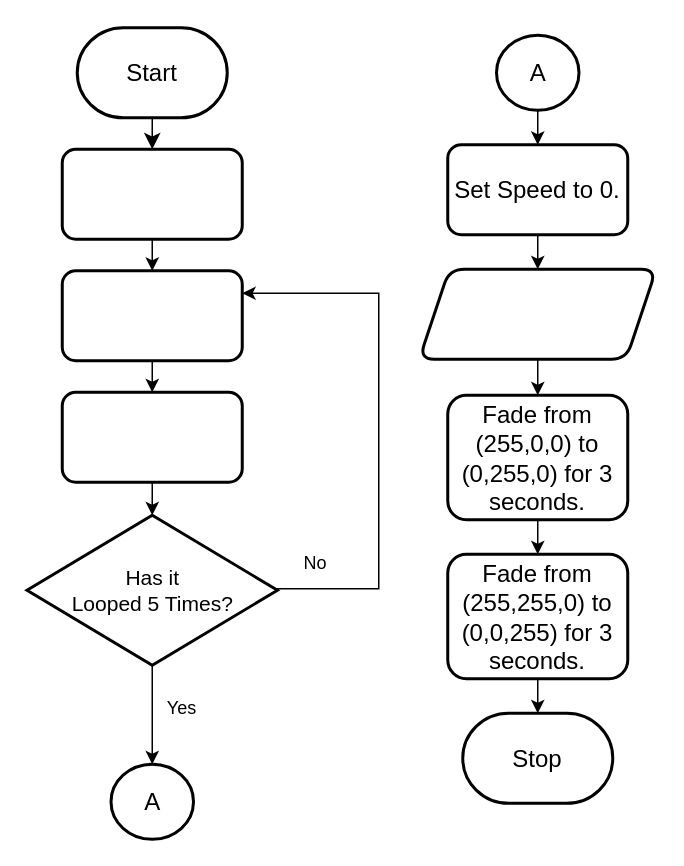
The diagram is 684 pixels wide and 866 high, and some of its shapes have lost their labels. The shapes that lost their labels are listed below. From the top down, each one's centre as x and y in pixels, then its label:
pixel 151 193: Set Speed to 95.
pixel 151 315: Spin 360 degrees for 7.5 seconds.
pixel 537 313: Speak "I'm the winner."
pixel 151 436: Spin -360 degrees for 7.5 seconds.
